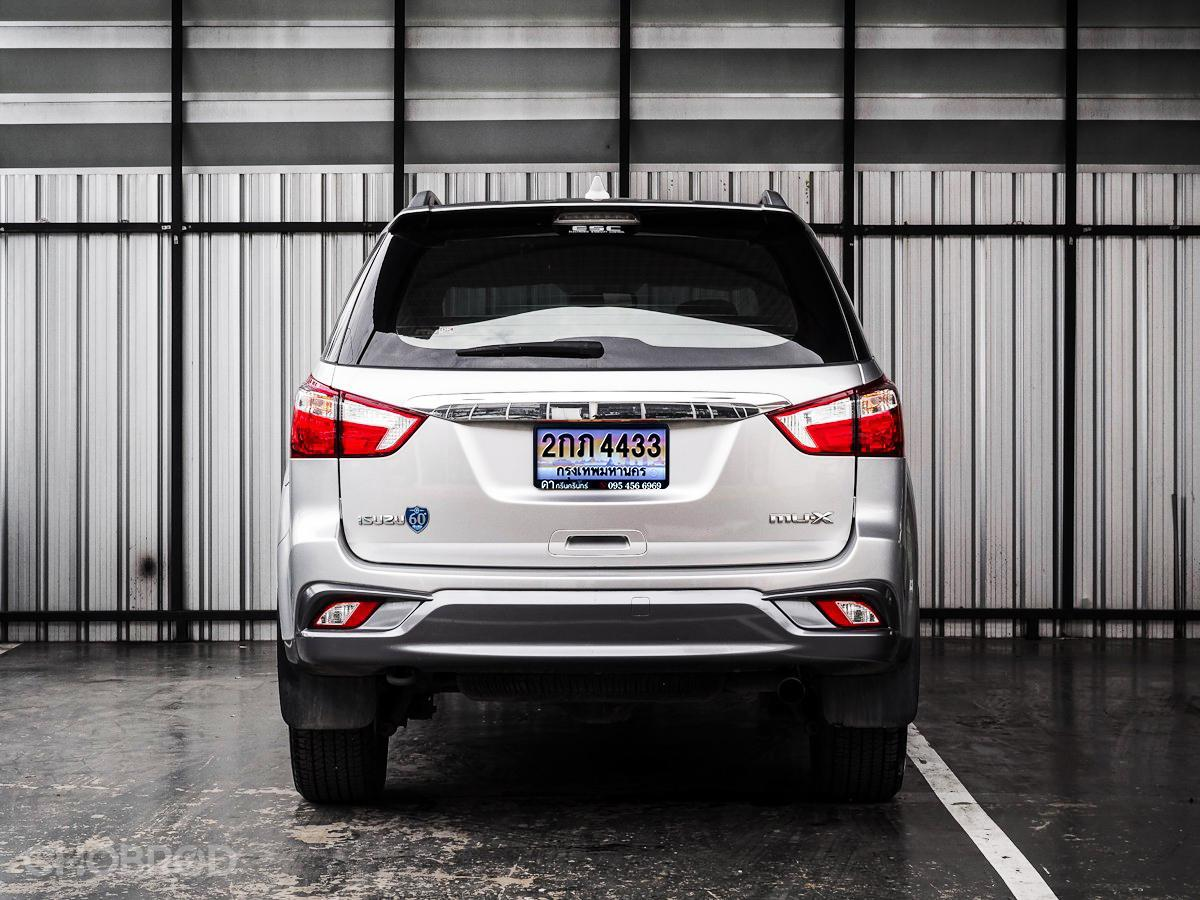license-plate: (525, 414, 683, 501)
